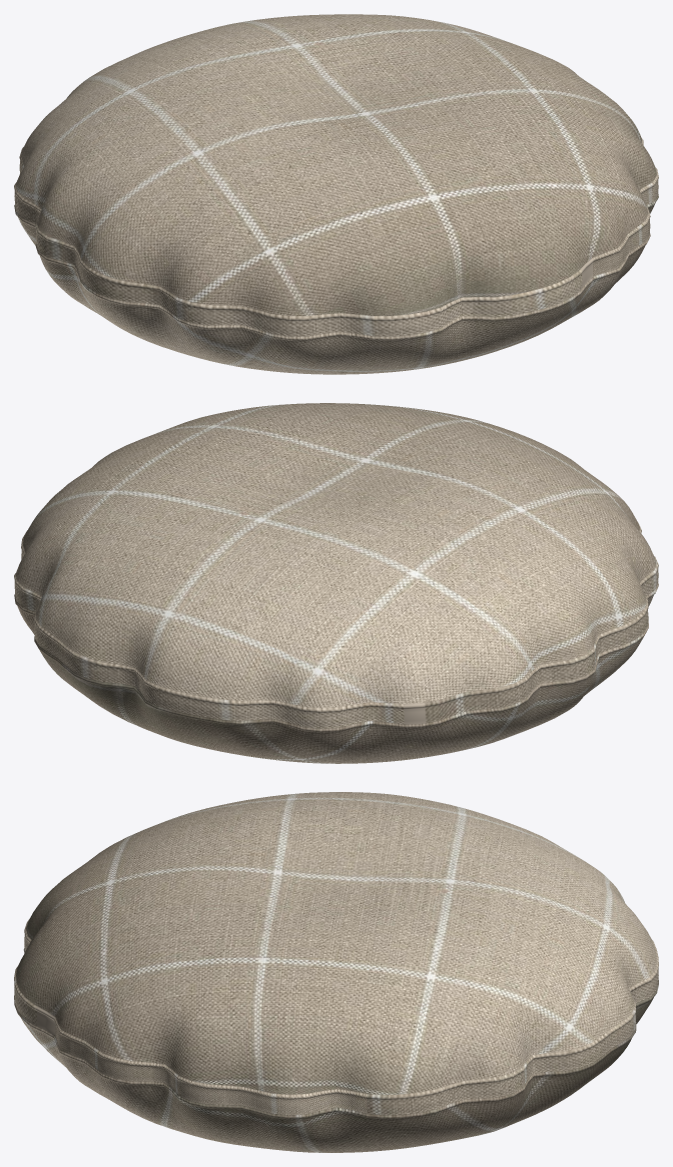
The model's file is simply4.fbx.
3 views of the same model, one above another, from view 1: azimuth 30°, elevation 25°; view 2: azimuth 150°, elevation 25°; view 3: azimuth 270°, elevation 25° (orthographic).
Visible parts, largest first — view 1: pasted__polySurface1; view 2: pasted__polySurface1; view 3: pasted__polySurface1.
Boxes of the visible parts, <box> form: pasted__polySurface1: <box>14,14,658,374</box>; pasted__polySurface1: <box>14,403,658,763</box>; pasted__polySurface1: <box>14,792,658,1152</box>.
Size of the model in its own units: 12.04 by 4.53 by 12.26.
